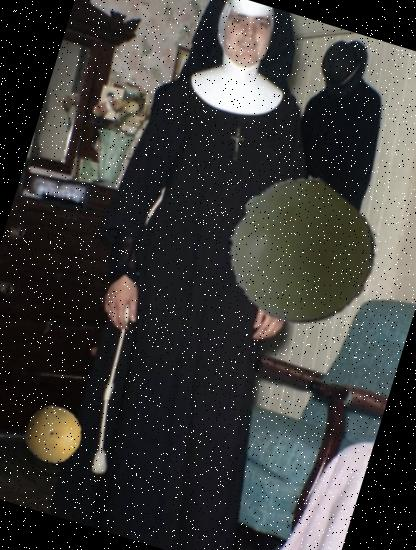Grape: (210, 161, 392, 343)
Grapefruit: (17, 398, 88, 470)
